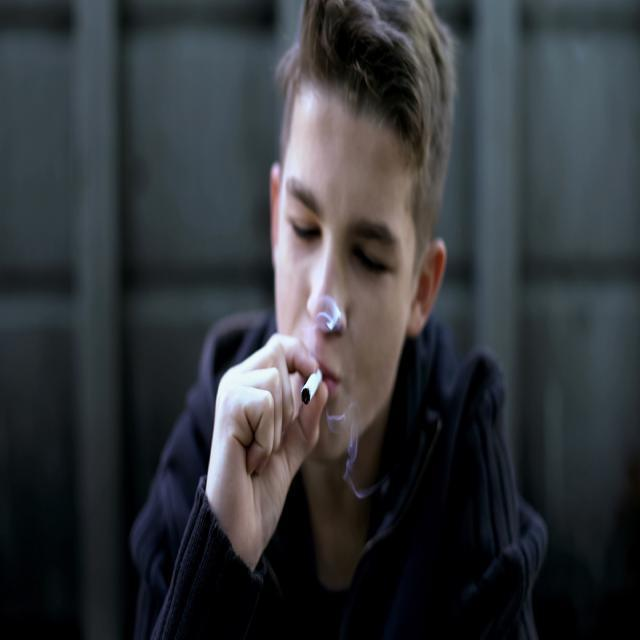smoking: (258, 345, 363, 417)
